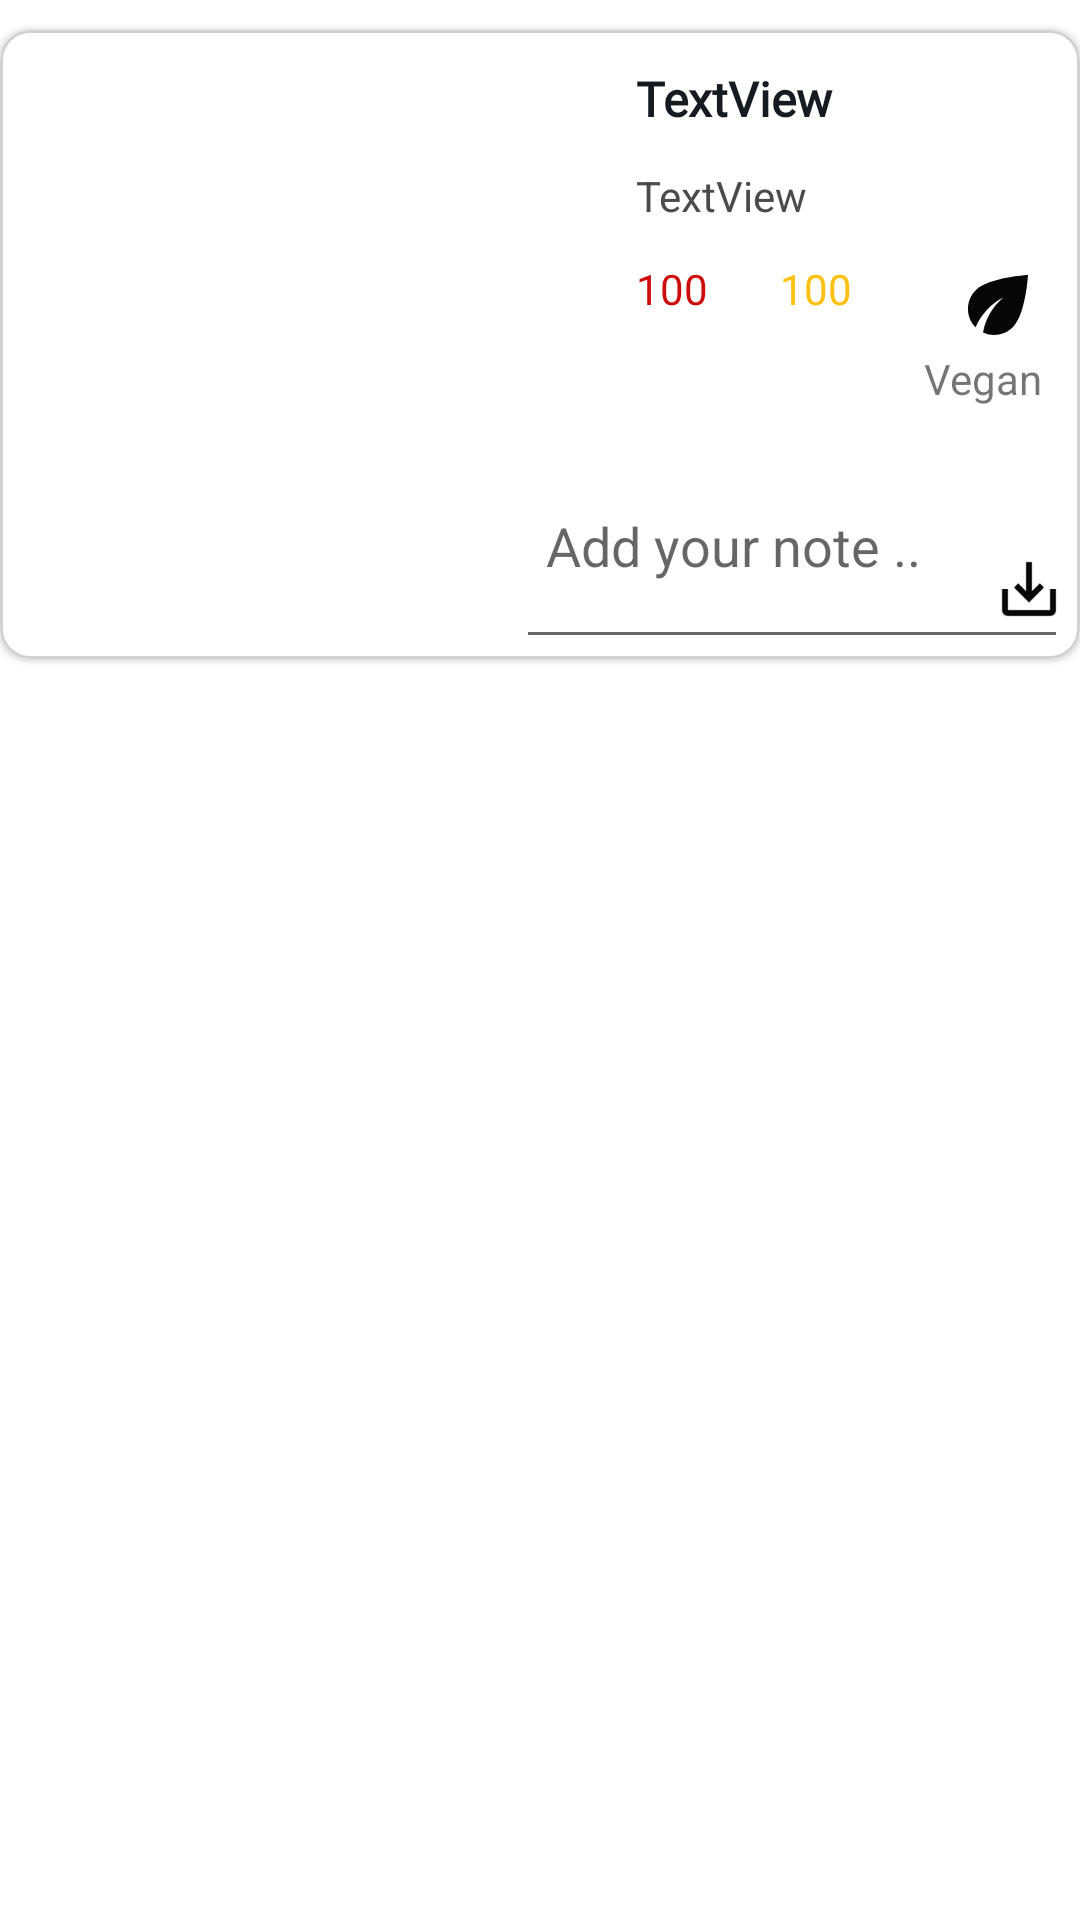

Icon click points for this 1080w x 1920h phone screenshot, format [x,y]:
save: [1029,589]
